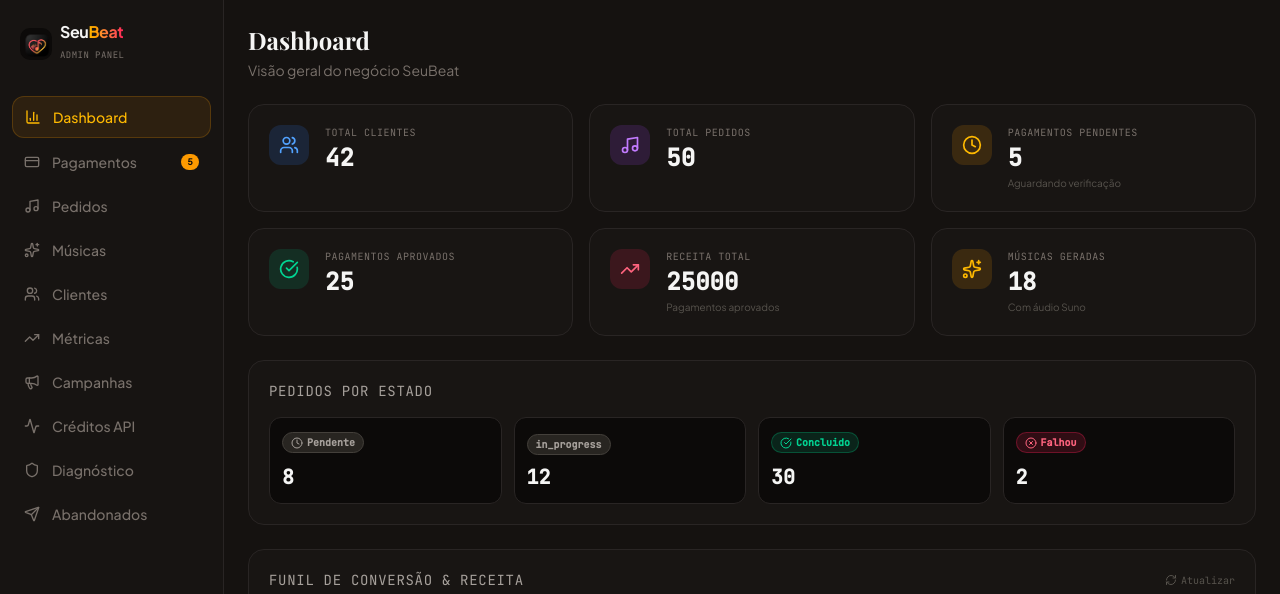
Test: AdminPanel › Payment Management › can expand payment details
The width and height of the screenshot is (1280, 594).
Click the button "Pagamentos 5".
click(112, 162)  # box left=12, top=142, right=211, bottom=182
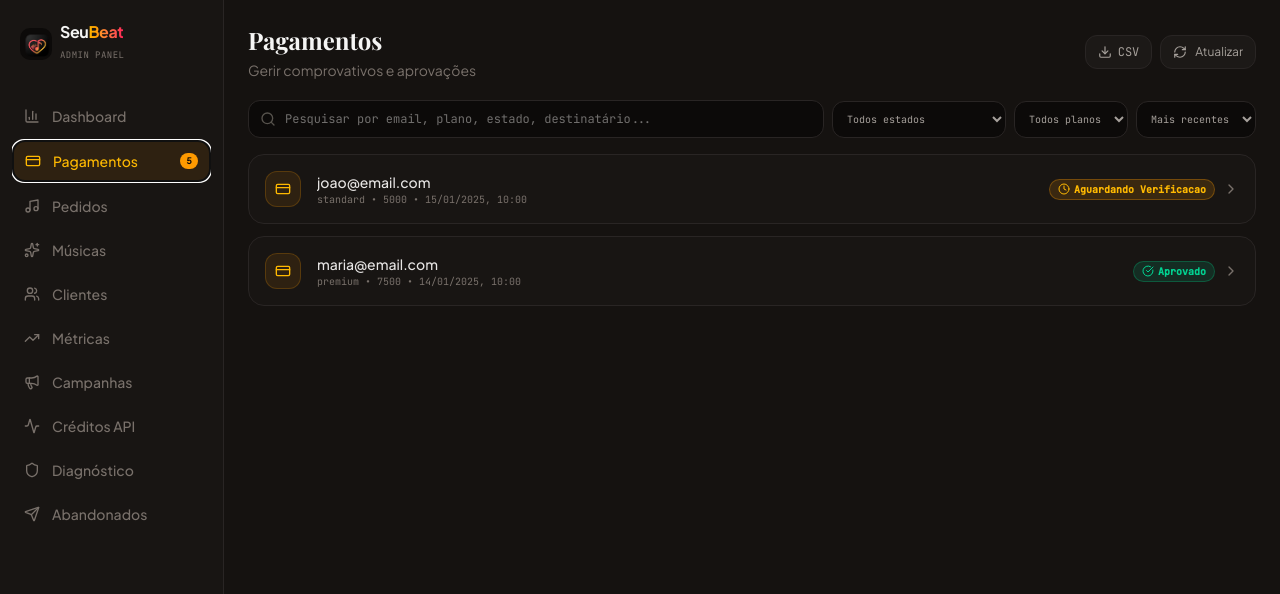
Now the text "joao@email.com" is shown, box left=317, top=172, right=431, bottom=190
Click the text "joao@email.com".
click(283, 189)  # box left=265, top=171, right=1239, bottom=207
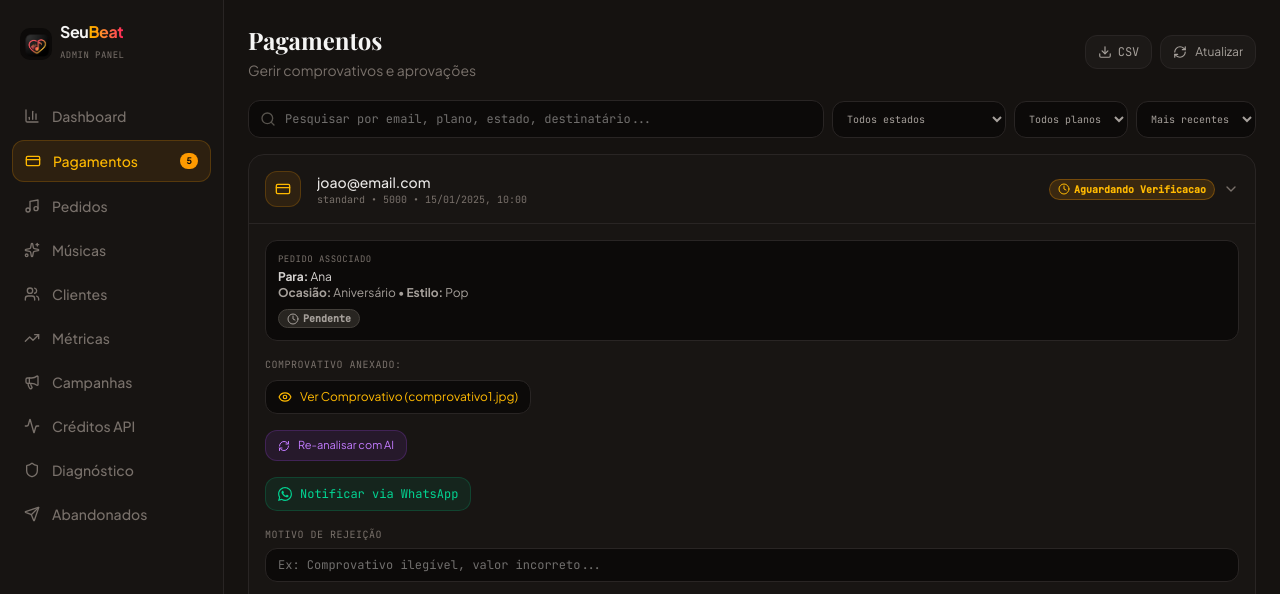
Now the text "Pedido Associado" is shown, box left=278, top=253, right=372, bottom=265
Now the text "Ocasião: Aniversário • Estilo: Pop" is shown, box left=278, top=285, right=468, bottom=300
Now the text "Para: Ana" is shown, box left=278, top=269, right=332, bottom=284
